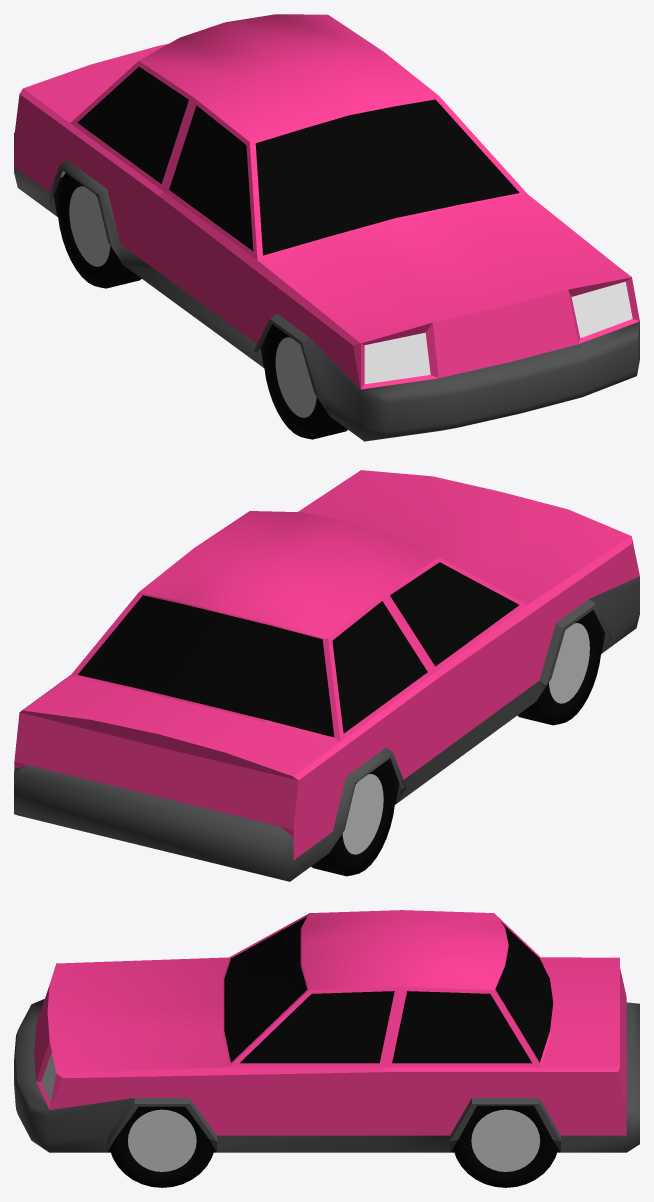
The model's file is carMag.glb.
3 renders of one model, top to bottom at view 1: azimuth 30°, elevation 25°; view 2: azimuth 150°, elevation 25°; view 3: azimuth 270°, elevation 25°, orthographic. The views are drawn at different scales.
Visible parts, largest first — view 1: Car; view 2: Car; view 3: Car.
Part boxes in pixels (<box>): Car: <box>14,14,639,441</box>; Car: <box>14,470,639,881</box>; Car: <box>14,910,639,1187</box>.
Bounding box in the file's own units: 2.1 × 1.59 × 4.66.
